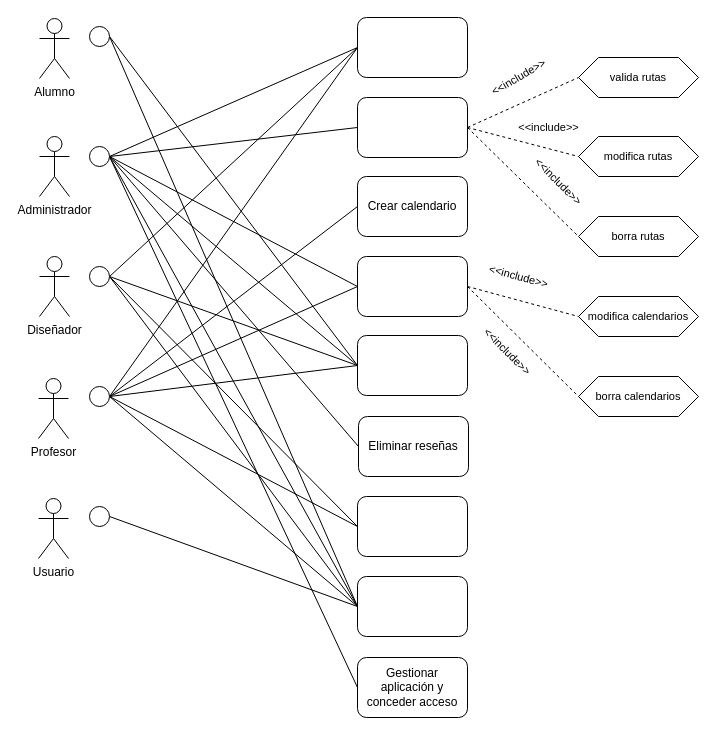
The diagram is 716 pixels wide and 735 high, and some of its shapes have lost their labels. Each missing label, with the centre of its shape:
"Crear rutas" belongs at [412,47].
"Descargar fichas de rutas" belongs at [412,526].
"Gestionar calendario" belongs at [412,286].
"Gestionar rutas" belongs at [412,127].
"Valora y hacer reseñas" belongs at [412,365].
"Ver catalogo rutas" belongs at [412,606].
